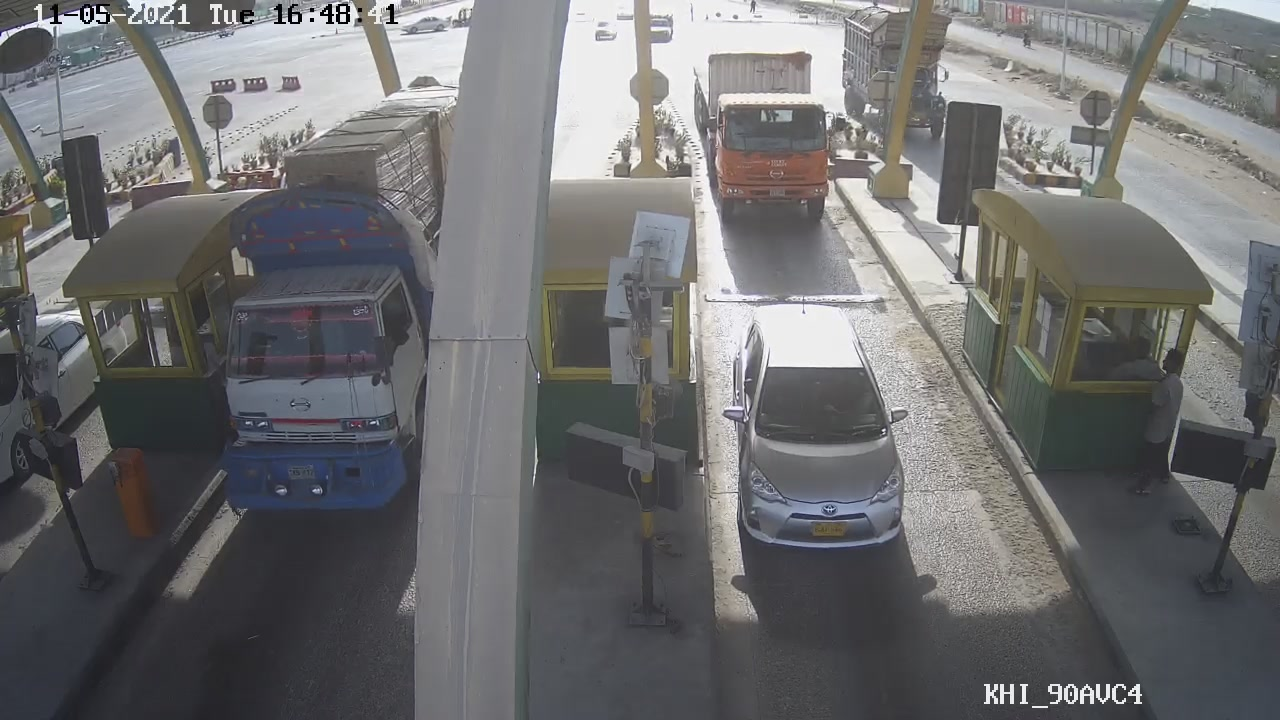F6: (699, 45, 836, 235)
